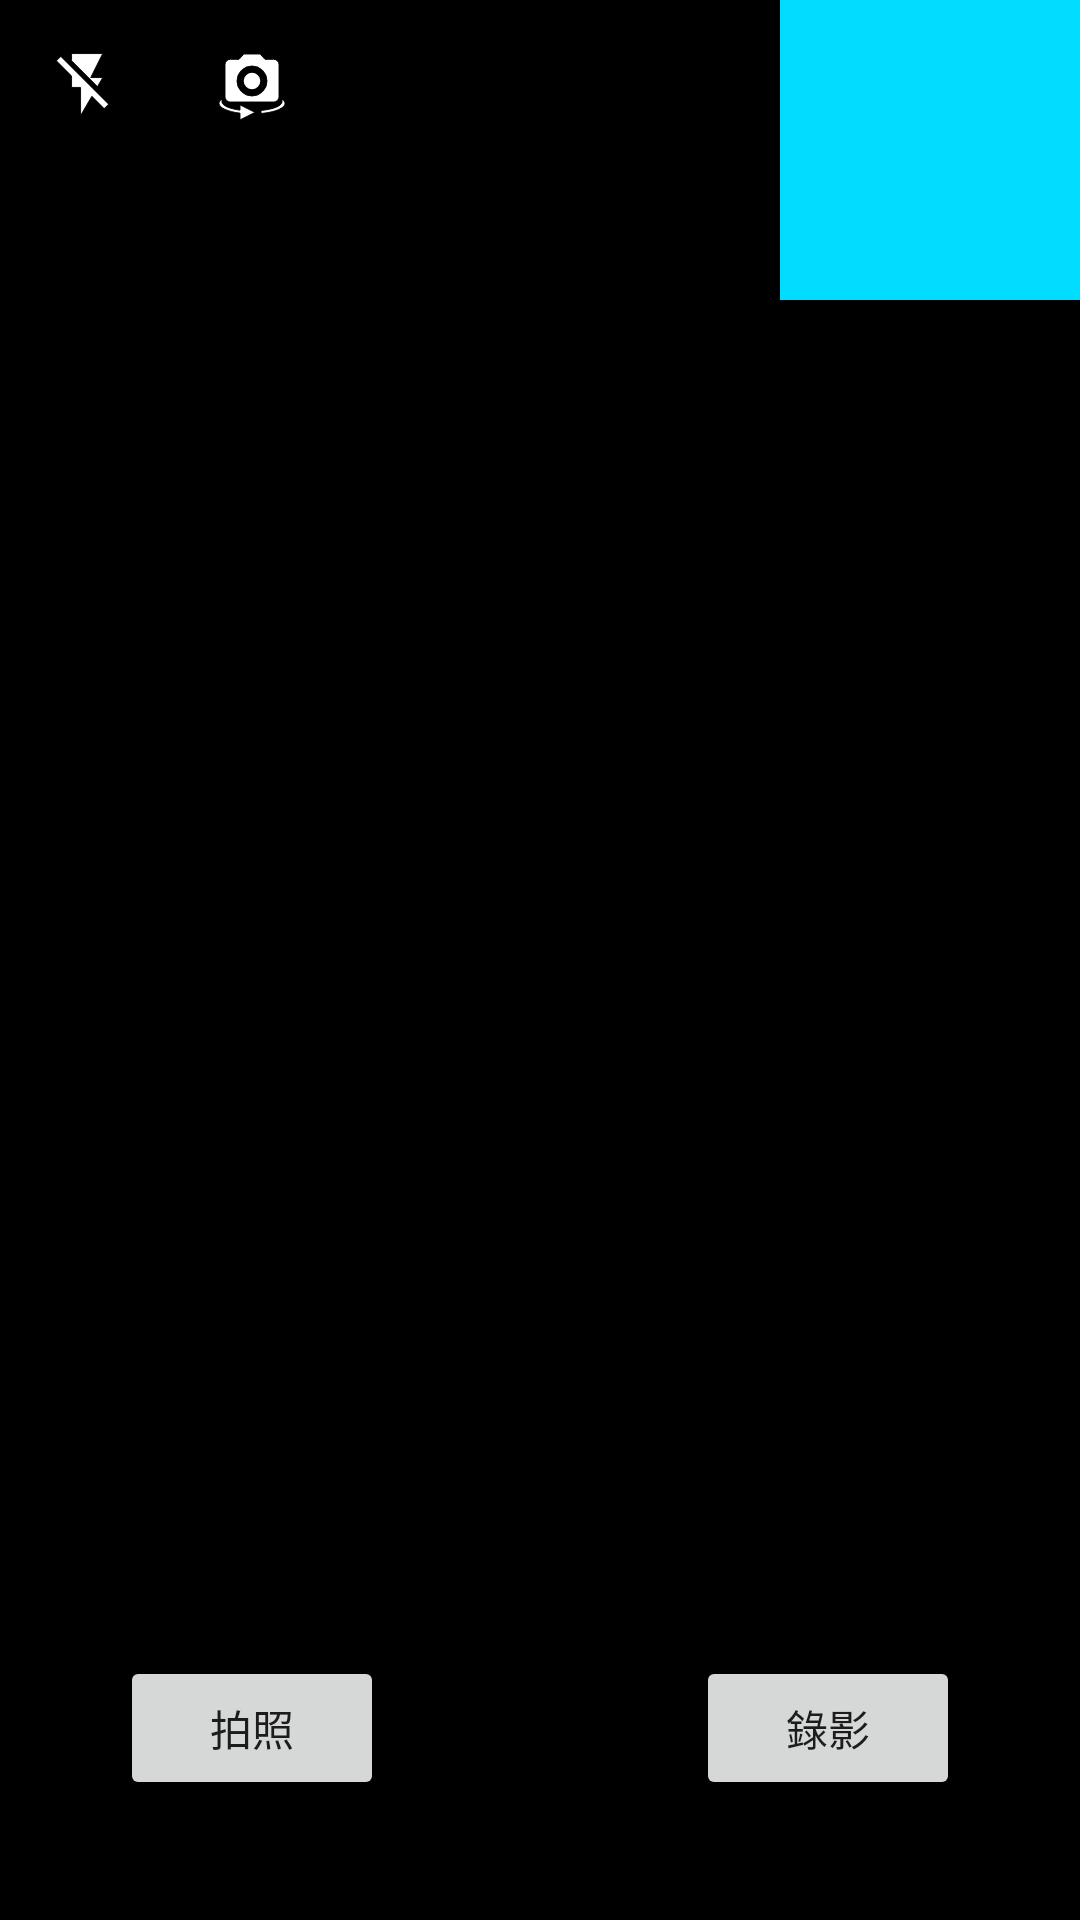

Named icons in this screenshot (1080px×1920px) and their bounding boxes, (x1, y1, x2, y2):
flash off: (57, 54, 108, 114)
photo cam reverse: (219, 54, 285, 119)
